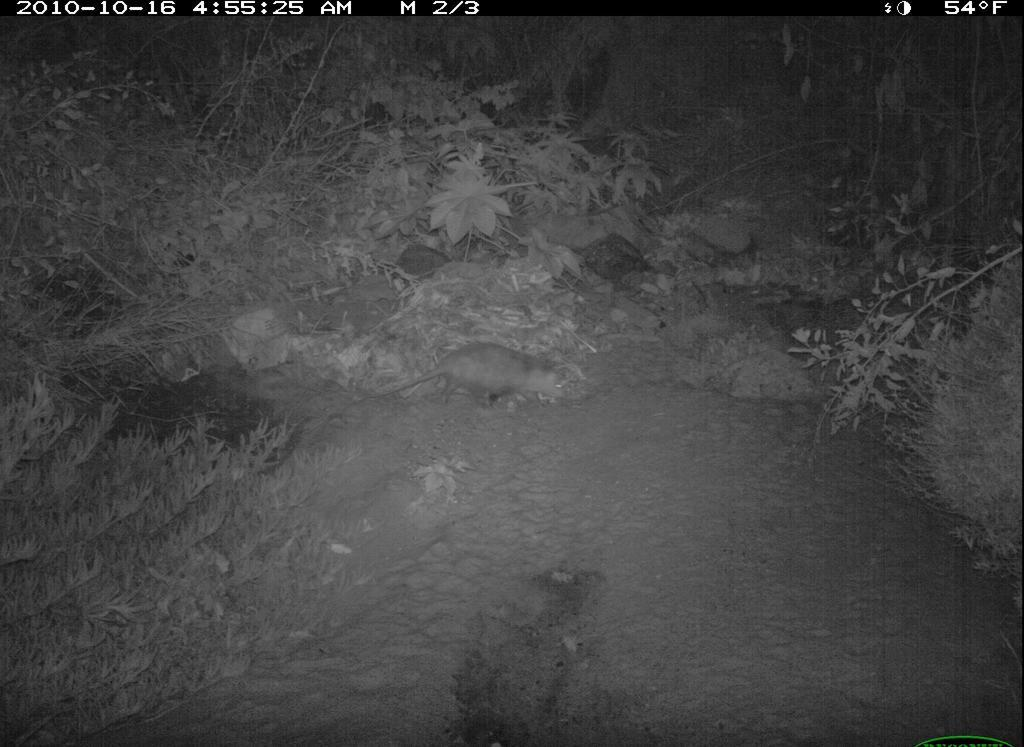opossum: (370, 333, 589, 436)
